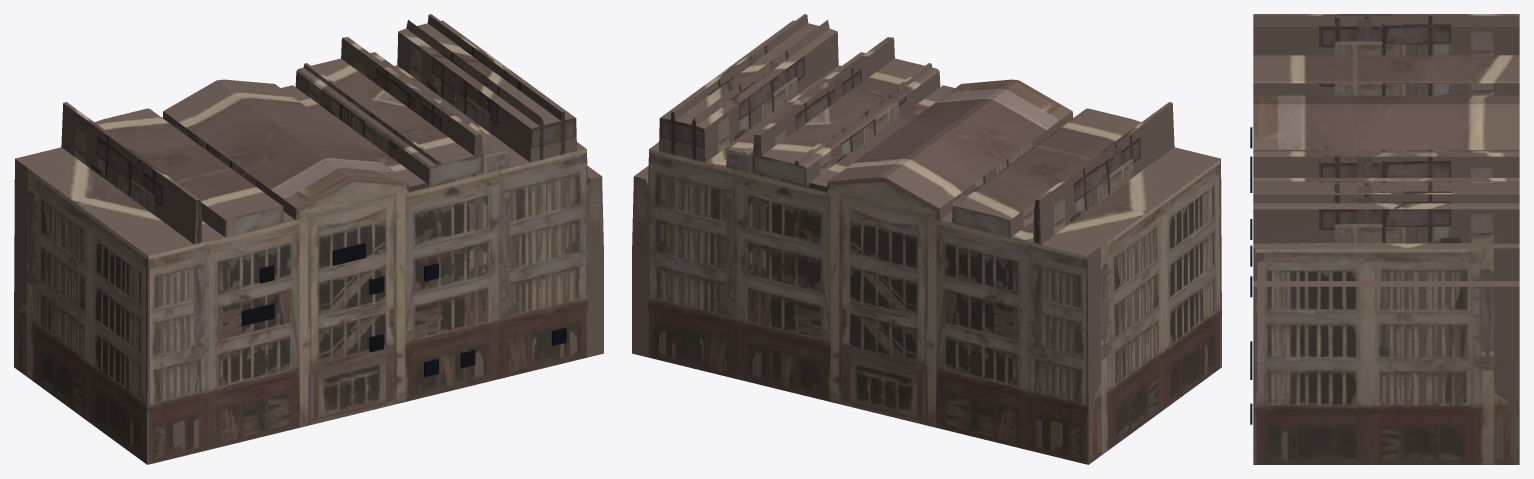
Rendered from bg_city_building_4_lod0.glb.
3 renders of one model, left to right at view 1: azimuth 30°, elevation 25°; view 2: azimuth 150°, elevation 25°; view 3: azimuth 270°, elevation 25°, orthographic.
Parts seen in each view (by area): view 1: body, windows; view 2: body; view 3: body, windows.
Part boxes in pixels (bbox=[...]): body: bbox=[14, 14, 603, 464]; windows: bbox=[241, 243, 566, 377]; body: bbox=[632, 14, 1221, 464]; body: bbox=[1253, 14, 1519, 464]; windows: bbox=[1250, 127, 1252, 424].
Size of the model in its own units: 10 by 5.29 by 5.12.
Materials: 2 (1 with a texture image).
